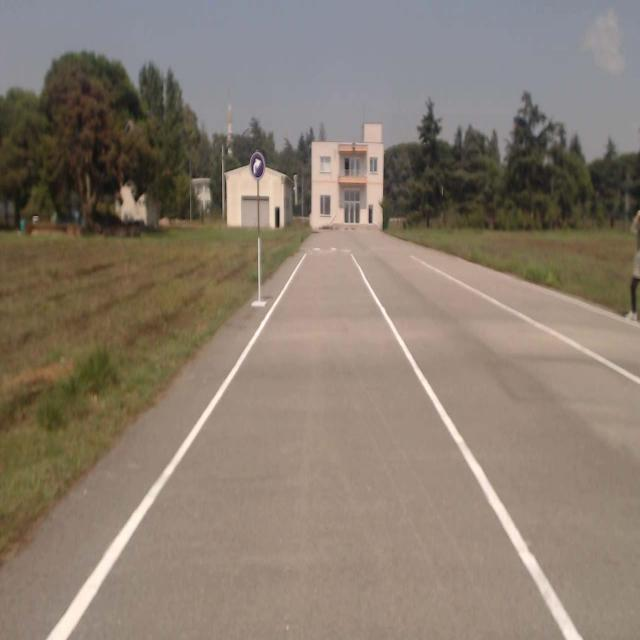sag: (250, 152, 264, 179)
